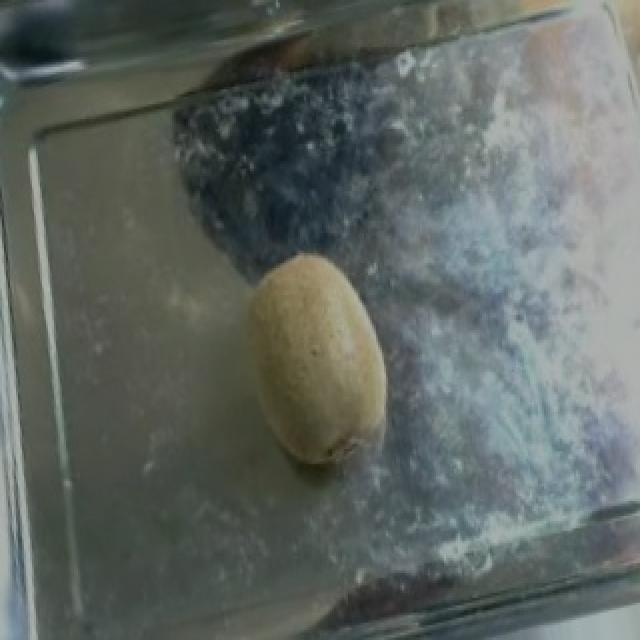Fruit: (220, 231, 422, 494)
